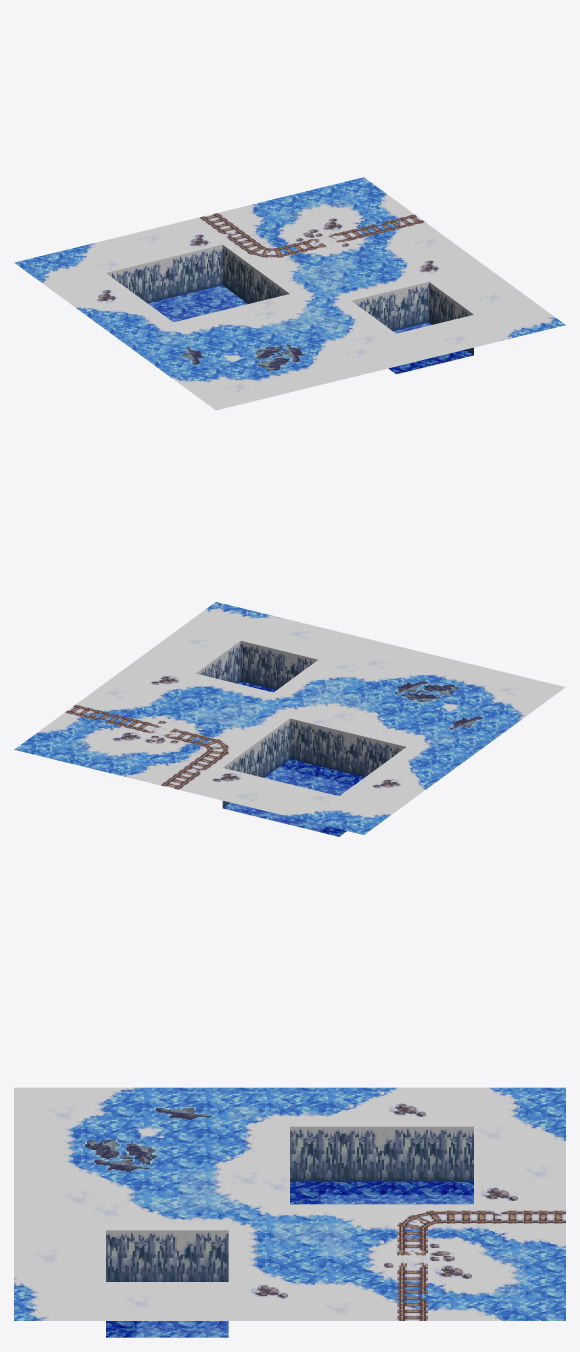
File: holy_summit.glb
The picture shows the model from 3 angles, top to bottom: view 1: azimuth 30°, elevation 25°; view 2: azimuth 150°, elevation 25°; view 3: azimuth 270°, elevation 25°; orthographic projection. The views are drawn at different scales.
Parts seen in each view (by area): view 1: HS_Ground-col; view 2: HS_Ground-col; view 3: HS_Ground-col.
Part boxes in pixels (left/top/right/bottom): HS_Ground-col: left=14, top=177, right=565, bottom=410; HS_Ground-col: left=14, top=602, right=565, bottom=836; HS_Ground-col: left=14, top=1087, right=565, bottom=1337.
Size of the model in its own units: 4.5 by 2.5 by 4.5.
2 materials, 1 textured.
